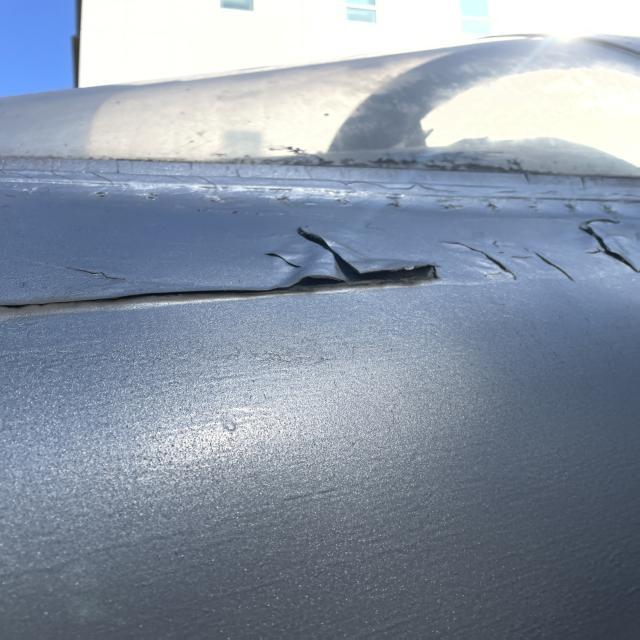crack: (457, 237, 578, 285), (64, 267, 142, 284), (272, 254, 305, 270)
